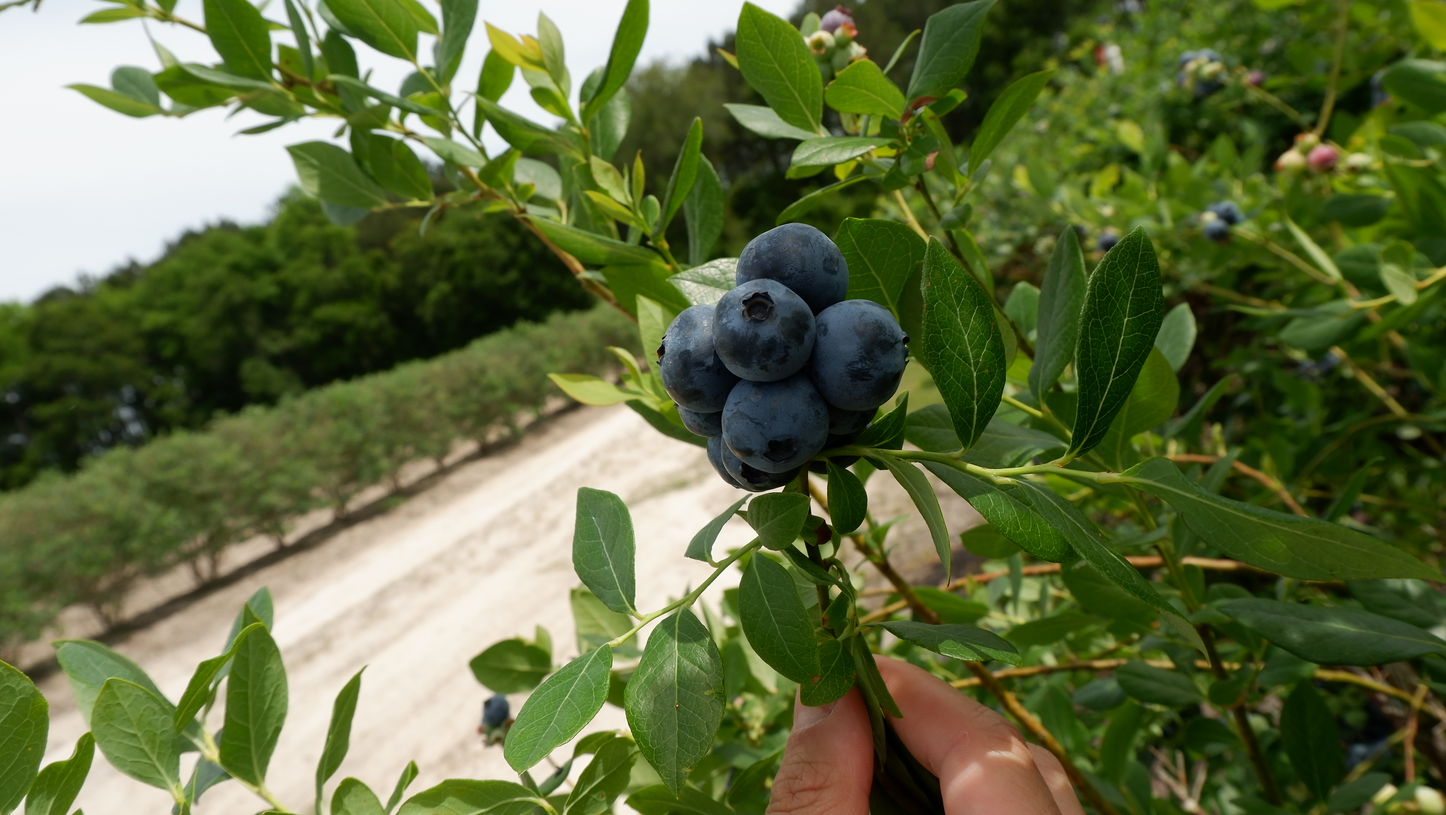Mature: (736, 222, 848, 316), (722, 374, 827, 474), (811, 300, 907, 408), (713, 280, 815, 379), (658, 305, 735, 413), (720, 432, 804, 490), (706, 432, 765, 492), (823, 397, 878, 434), (676, 405, 722, 436)
